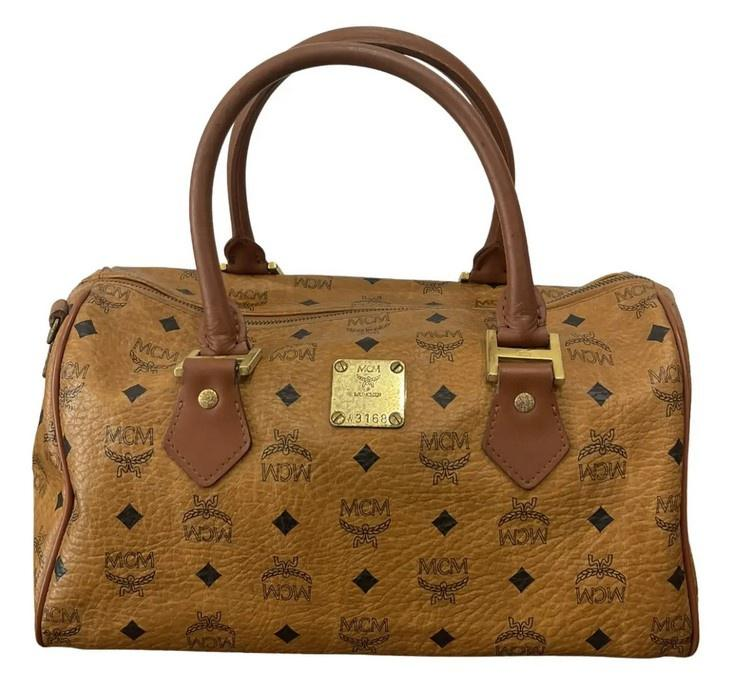MCM: (31, 263, 712, 669)
